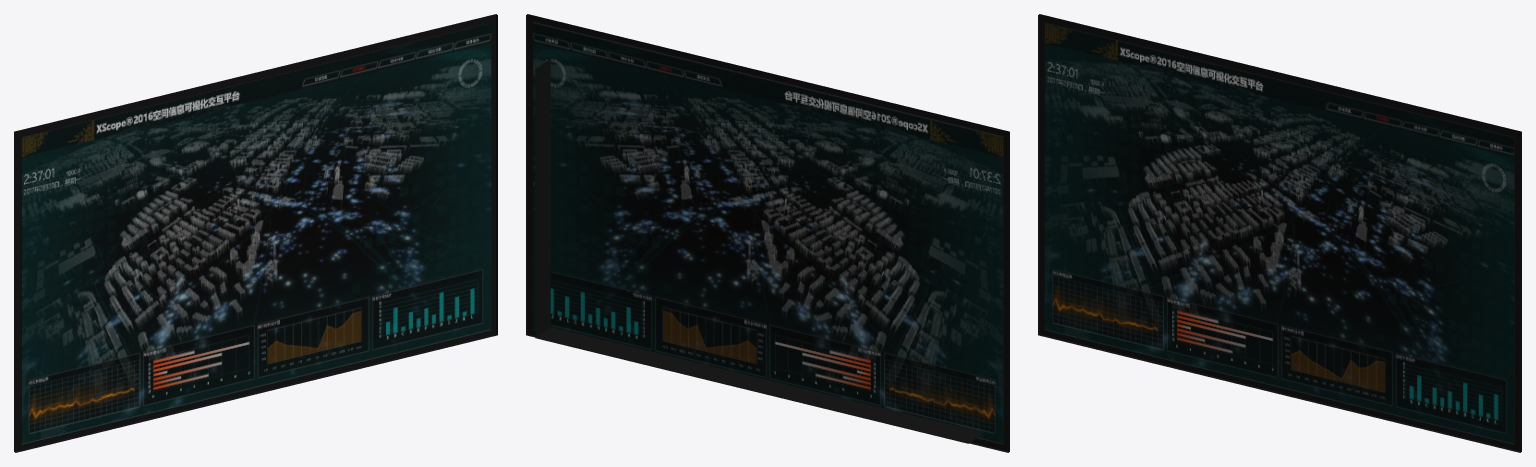
3 renders of one model, left to right at view 1: azimuth 30°, elevation 25°; view 2: azimuth 150°, elevation 25°; view 3: azimuth 330°, elevation 25°, orthographic.
Parts seen in each view (by area): view 1: TV; view 2: TV; view 3: TV.
Part boxes in pixels (x1,y1,x2,y2): TV: (14,14,497,452); TV: (526,14,1009,452); TV: (1038,14,1521,452).
Size of the model in its own units: 1.64 by 1.04 by 0.1.
Materials: 2 (1 with a texture image).
